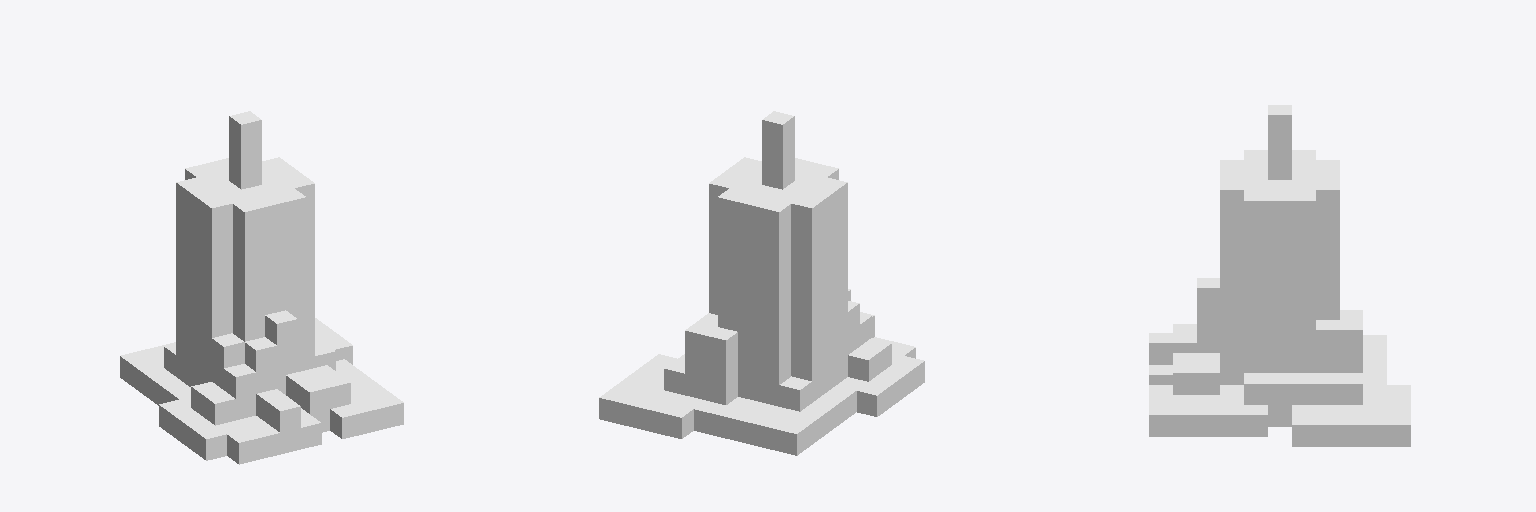
The model's file is candle1.obj.
3 renders of one model, left to right at view 1: azimuth 30°, elevation 25°; view 2: azimuth 150°, elevation 25°; view 3: azimuth 270°, elevation 25°, orthographic.
Visible parts, largest first — view 1: object 1; view 2: object 1; view 3: object 1.
Part boxes in pixels (left/top/right/bottom): object 1: left=120, top=111, right=403, bottom=464; object 1: left=599, top=111, right=924, bottom=455; object 1: left=1149, top=105, right=1410, bottom=446.
Size of the model in its own units: 1 by 1.3 by 1.1.